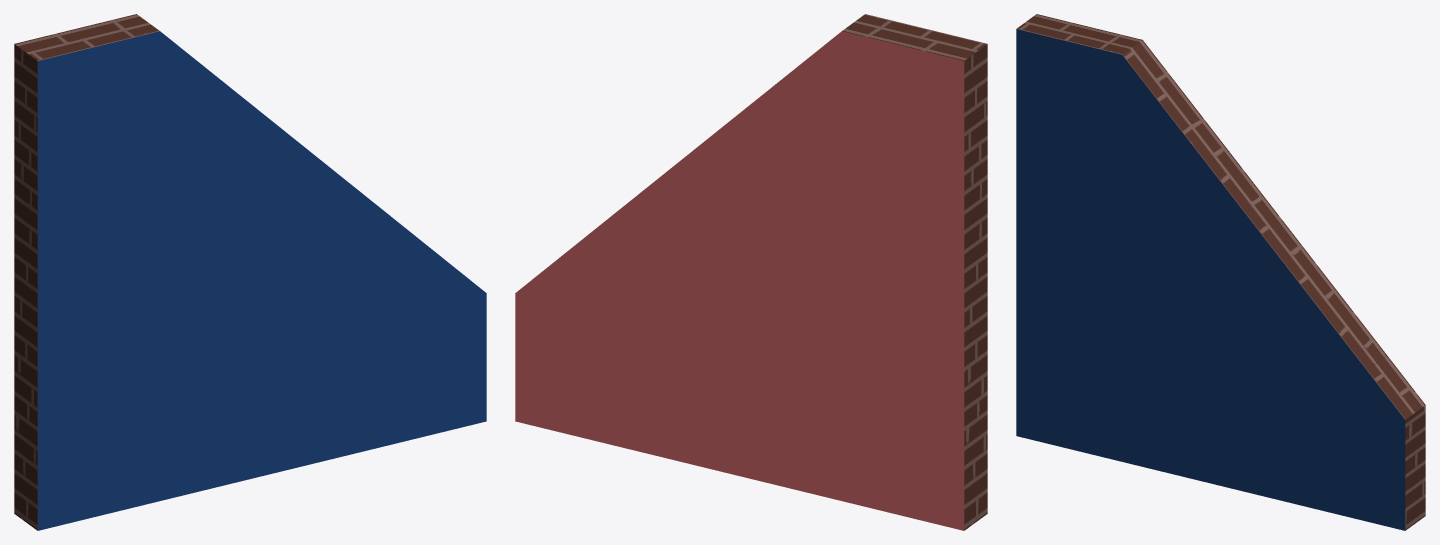
Rendered from wall8.FBX.
3 renders of one model, left to right at view 1: azimuth 30°, elevation 25°; view 2: azimuth 150°, elevation 25°; view 3: azimuth 330°, elevation 25°, orthographic. The views are drawn at different scales.
Parts seen in each view (by area): view 1: wall8; view 2: wall8; view 3: wall8.
Part boxes in pixels (bbox=[...]): wall8: bbox=[14, 14, 486, 530]; wall8: bbox=[515, 14, 987, 530]; wall8: bbox=[1016, 14, 1425, 530].
Size of the model in its own units: 550 by 550 by 50.
Materials: 3 (1 with a texture image).
